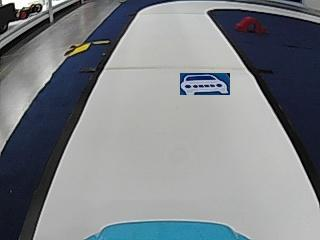bridge: (235, 16, 265, 33)
